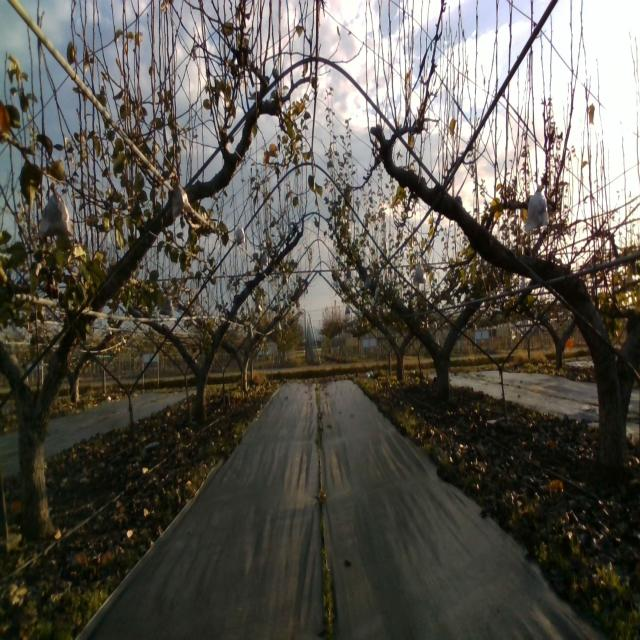pearbags: (38, 181, 74, 238), (525, 185, 549, 232), (172, 179, 192, 221), (412, 261, 423, 285)
